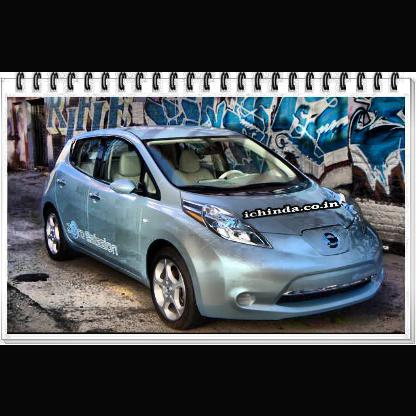Nissan Leaf Hatchback 2012: (42, 127, 385, 329)
